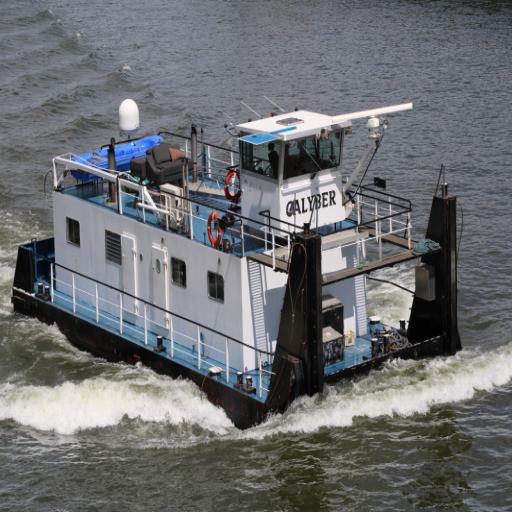tugboat: (11, 98, 468, 443)
